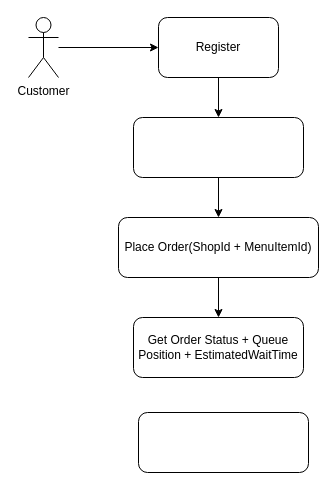
This 336x490 diagram has some shape labels left out. Each missing label, with the centre of its shape:
"Exit Queue/ Cancel Order" goes at pixel 223 442.
"FindByNearShops(Lat + Lon)" goes at pixel 218 147.
